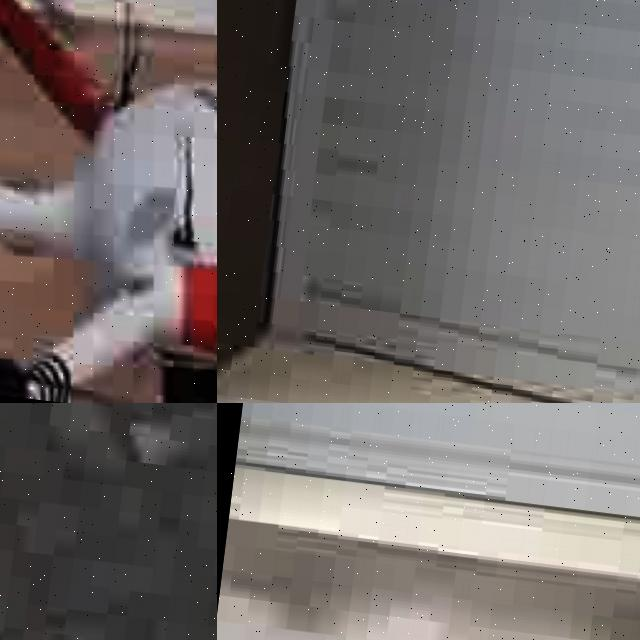drone: (0, 0, 217, 403)
